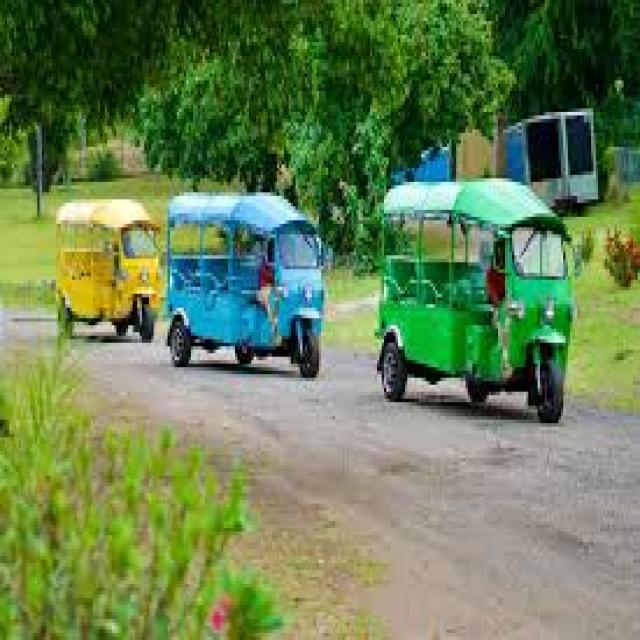tuktuk: (372, 172, 588, 456), (161, 172, 340, 400), (29, 160, 170, 376)
